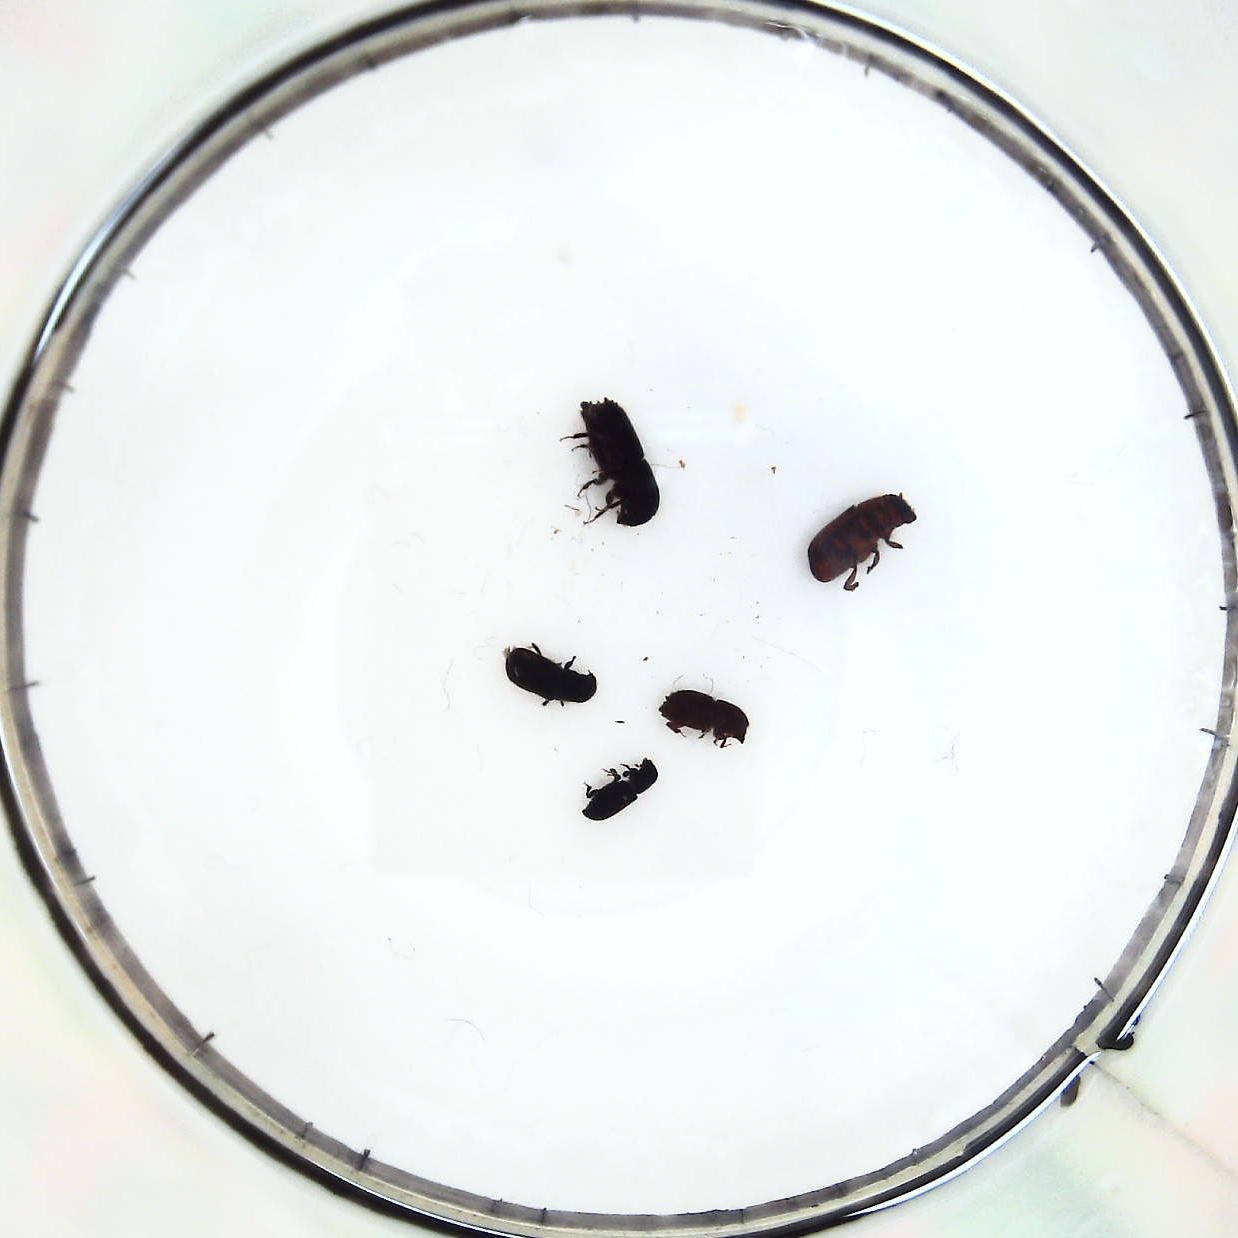Boerner: (573, 398, 663, 537)
Leconte: (805, 494, 919, 597)
Linnaeus: (662, 680, 749, 752)
armandi: (501, 639, 599, 710)
coleoptera: (577, 758, 665, 819)
